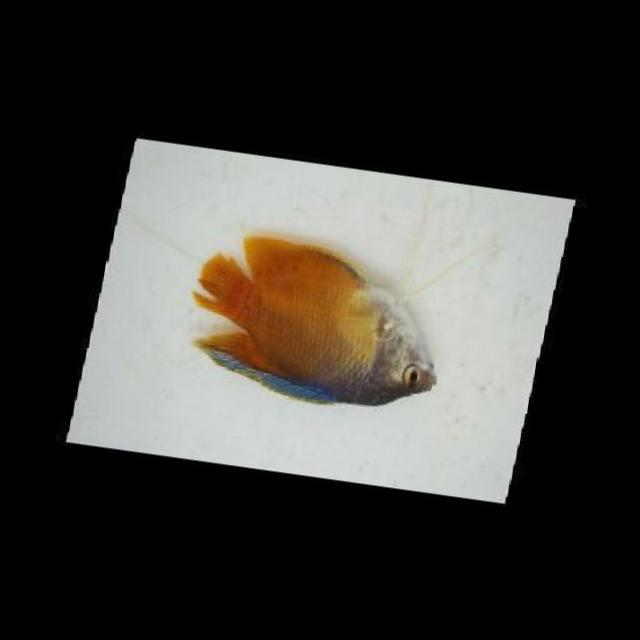Gourami: (177, 224, 455, 426)
